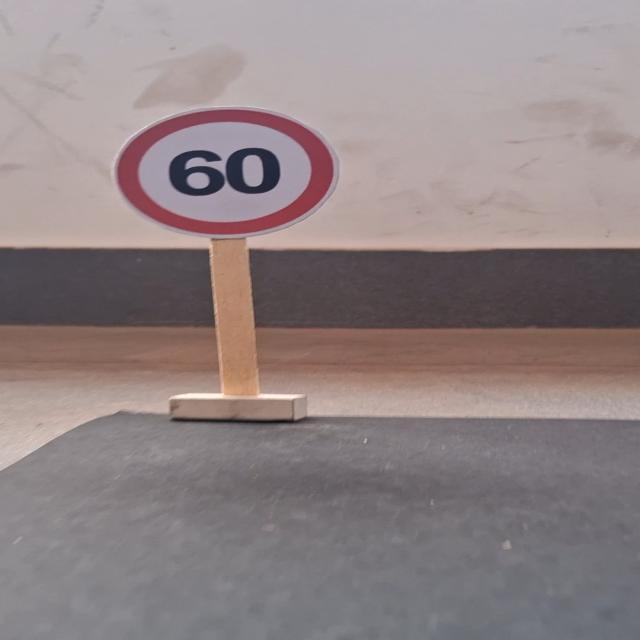Speed60: (107, 99, 344, 237)
